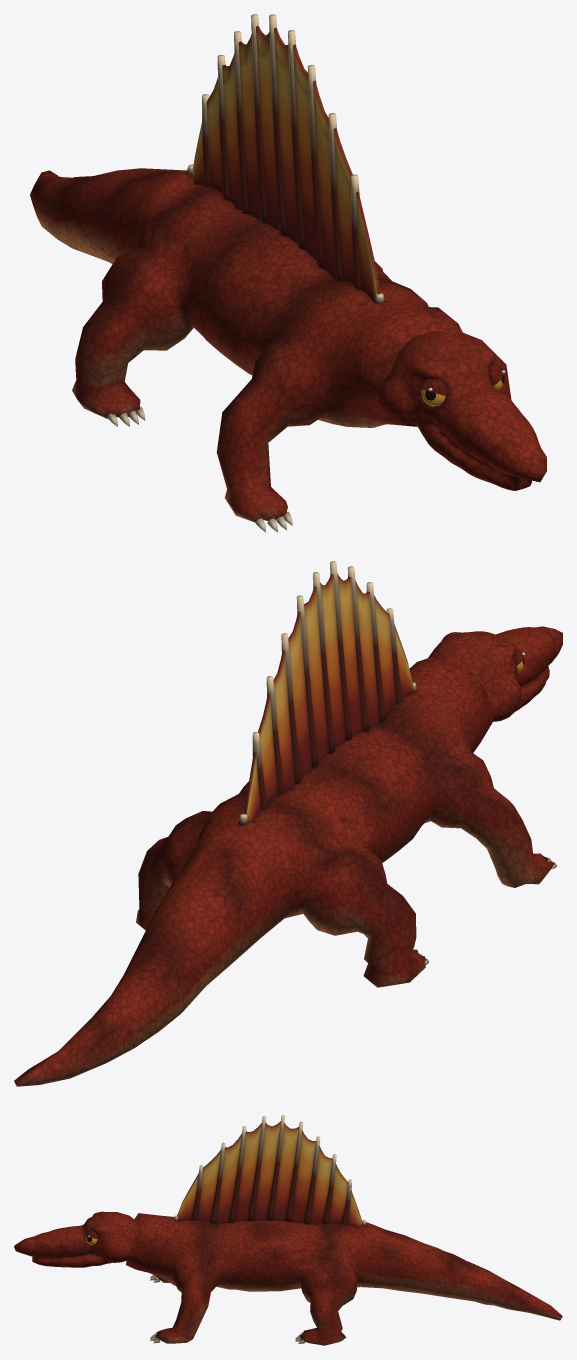
Rendered from sailback.fbx.
The picture shows the model from 3 angles, top to bottom: view 1: azimuth 30°, elevation 25°; view 2: azimuth 150°, elevation 25°; view 3: azimuth 270°, elevation 25°; orthographic projection. The views are drawn at different scales.
Parts seen in each view (by area): view 1: SailBack_Body; view 2: SailBack_Body; view 3: SailBack_Body.
Part boxes in pixels (x1,y1,x2,y2): SailBack_Body: (30, 14, 546, 532); SailBack_Body: (14, 561, 562, 1086); SailBack_Body: (14, 1115, 562, 1345).
Size of the model in its own units: 2.79 by 3.4 by 8.69.
2 materials, 1 textured.
